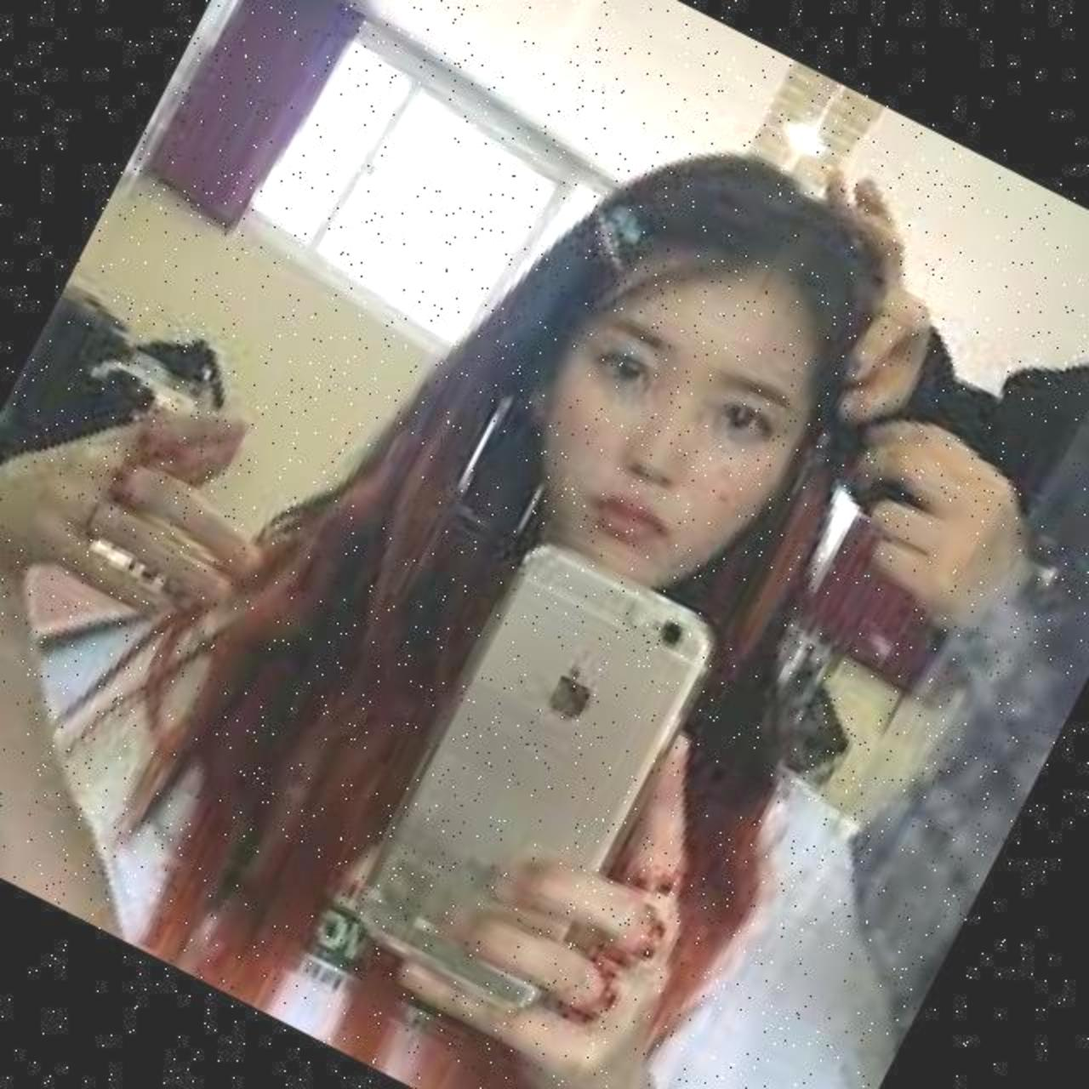phone: (356, 529, 712, 1023)
